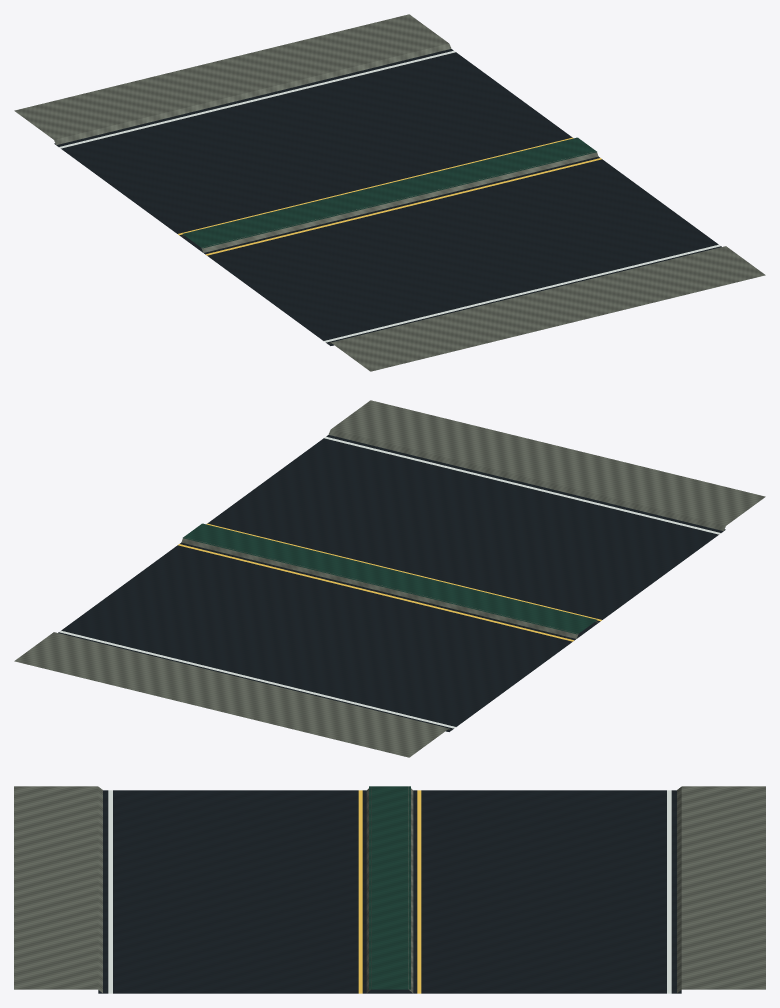
The model's file is road_arterial_6lane_16m_LOD2.glb.
3 views of the same model, one above another, from view 1: azimuth 30°, elevation 25°; view 2: azimuth 150°, elevation 25°; view 3: azimuth 270°, elevation 25° (orthographic). The views are drawn at different scales.
Parts seen in each view (by area): view 1: road_arterial_6lane_16m__surface.002, road_arterial_6lane_16m__markings.002; view 2: road_arterial_6lane_16m__surface.002, road_arterial_6lane_16m__markings.002; view 3: road_arterial_6lane_16m__surface.002, road_arterial_6lane_16m__markings.002.
Boxes of the visible parts, x1,y1,x2,y2 form: road_arterial_6lane_16m__surface.002: (14,14,765,371); road_arterial_6lane_16m__markings.002: (59,50,720,342); road_arterial_6lane_16m__surface.002: (14,400,765,757); road_arterial_6lane_16m__markings.002: (59,436,720,728); road_arterial_6lane_16m__surface.002: (14,786,765,993); road_arterial_6lane_16m__markings.002: (108,790,671,993).
Size of the model in its own units: 16 by 0.15 by 25.
6 materials, 4 textured.
